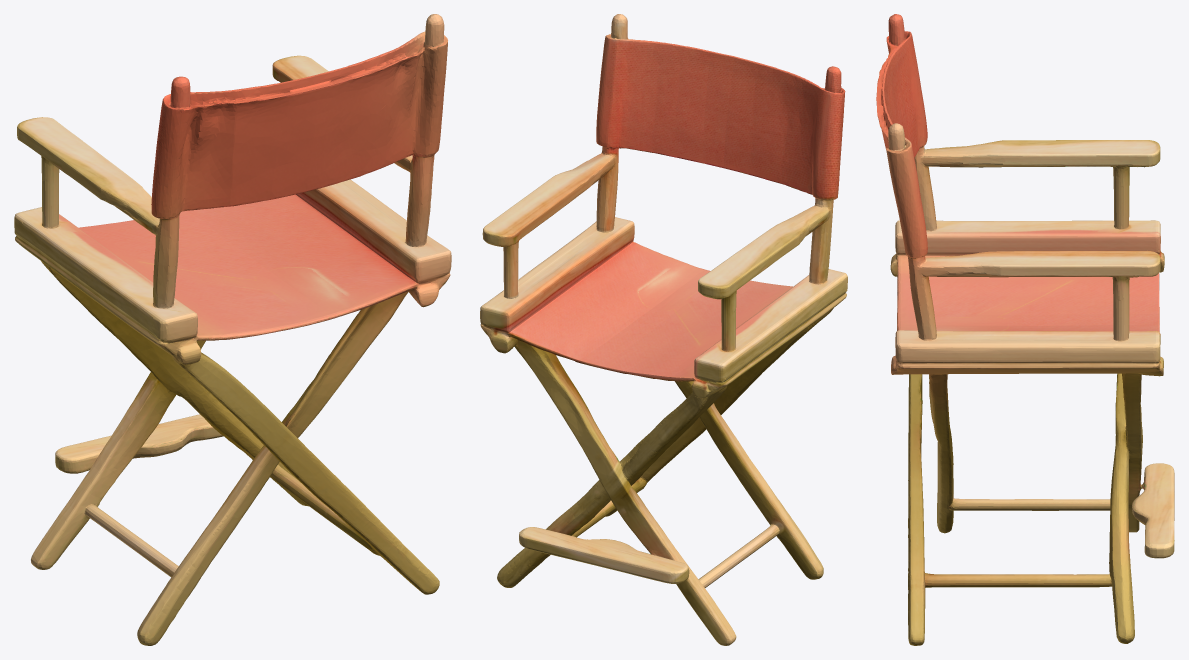
Rendered from director_chair.glb.
3 views of the same model, side by side, from view 1: azimuth 30°, elevation 25°; view 2: azimuth 150°, elevation 25°; view 3: azimuth 270°, elevation 25° (orthographic). The views are drawn at different scales.
Visible parts, largest first — view 1: geometry_0; view 2: geometry_0; view 3: geometry_0.
Boxes of the visible parts, x1,y1,x2,y2 form: geometry_0: (14,14,451,645); geometry_0: (480,14,847,645); geometry_0: (876,14,1174,645).
Size of the model in its own units: 0.5219 by 0.999 by 0.5203.
Materials: 1 (1 with a texture image).
